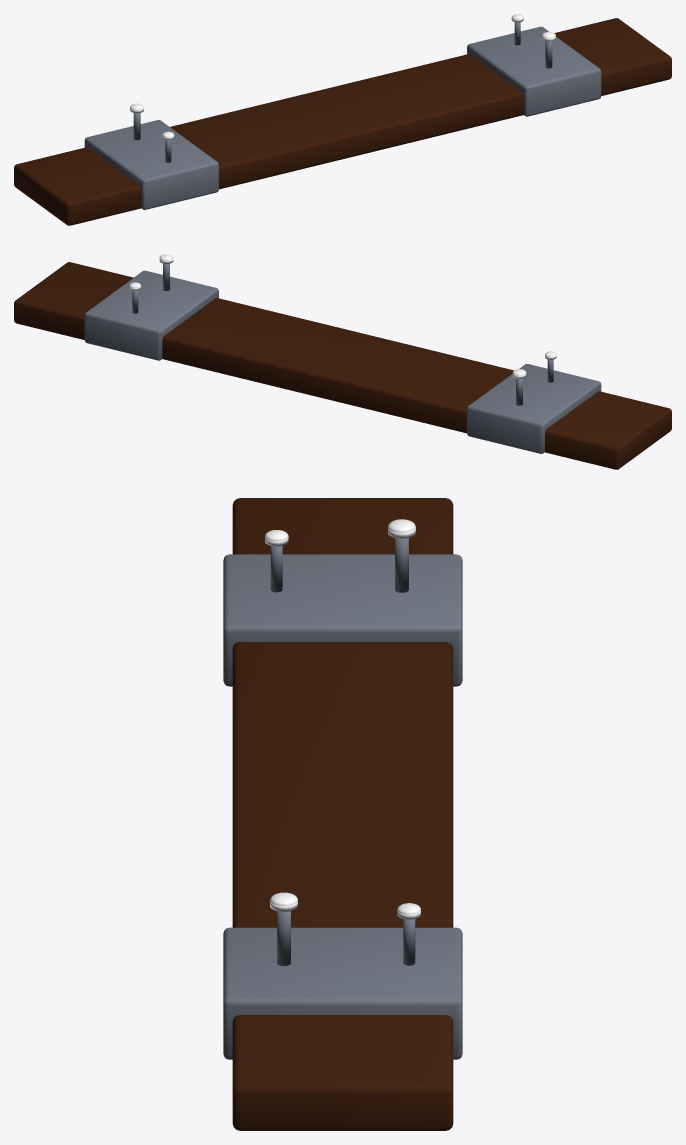
The model's file is metal-reinforced-plank.obj.
3 renders of one model, top to bottom at view 1: azimuth 30°, elevation 25°; view 2: azimuth 150°, elevation 25°; view 3: azimuth 270°, elevation 25°, orthographic. The views are drawn at different scales.
Visible parts, largest first — view 1: metal-reinforced-plank; view 2: metal-reinforced-plank; view 3: metal-reinforced-plank.
Part boxes in pixels (left/top/right/bottom): metal-reinforced-plank: left=14, top=14, right=671, bottom=225; metal-reinforced-plank: left=14, top=254, right=671, bottom=469; metal-reinforced-plank: left=223, top=498, right=462, bottom=1130.
Bounding box in the file's own units: 1.9 × 0.1937 × 0.325.
